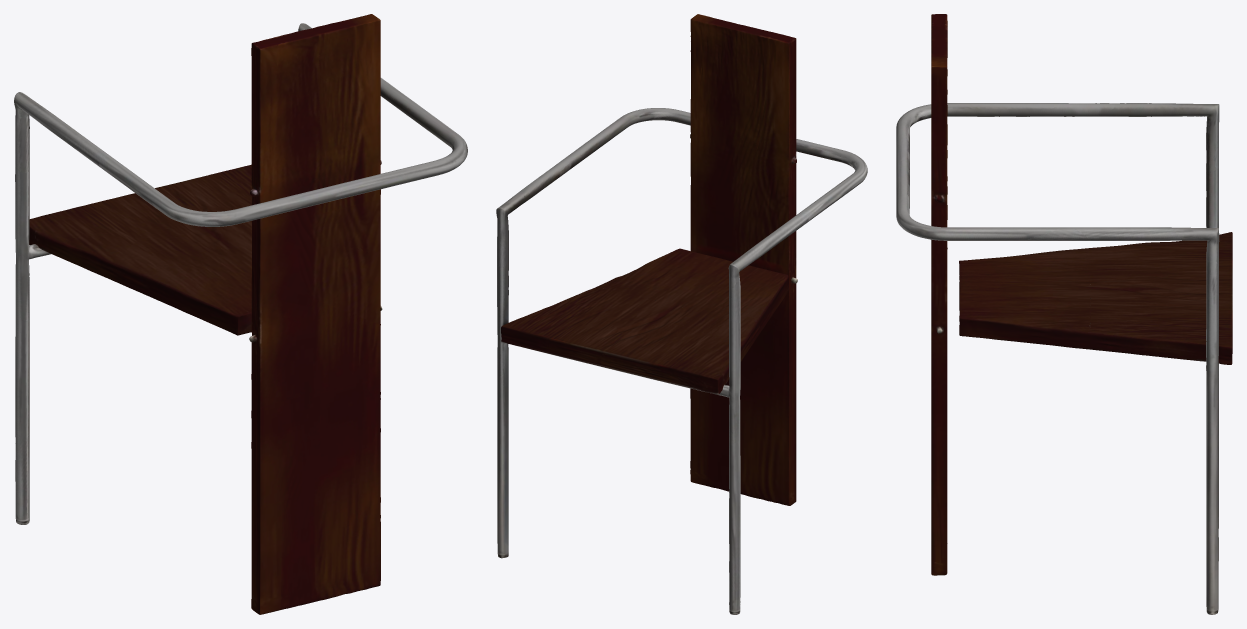
The picture shows the model from 3 angles, left to right: view 1: azimuth 30°, elevation 25°; view 2: azimuth 150°, elevation 25°; view 3: azimuth 270°, elevation 25°; orthographic projection. The views are drawn at different scales.
Visible parts, largest first — view 1: tripo_node_178c4805-04a0-4a5e-a18e-c0d94fa2c414; view 2: tripo_node_178c4805-04a0-4a5e-a18e-c0d94fa2c414; view 3: tripo_node_178c4805-04a0-4a5e-a18e-c0d94fa2c414.
Part boxes in pixels (box(x1,y1,x2,y2)): tripo_node_178c4805-04a0-4a5e-a18e-c0d94fa2c414: box(14, 14, 467, 614); tripo_node_178c4805-04a0-4a5e-a18e-c0d94fa2c414: box(496, 14, 867, 614); tripo_node_178c4805-04a0-4a5e-a18e-c0d94fa2c414: box(896, 14, 1232, 614).
Size of the model in its own units: 0.5461 by 1 by 0.5975.
1 material, 1 textured.
